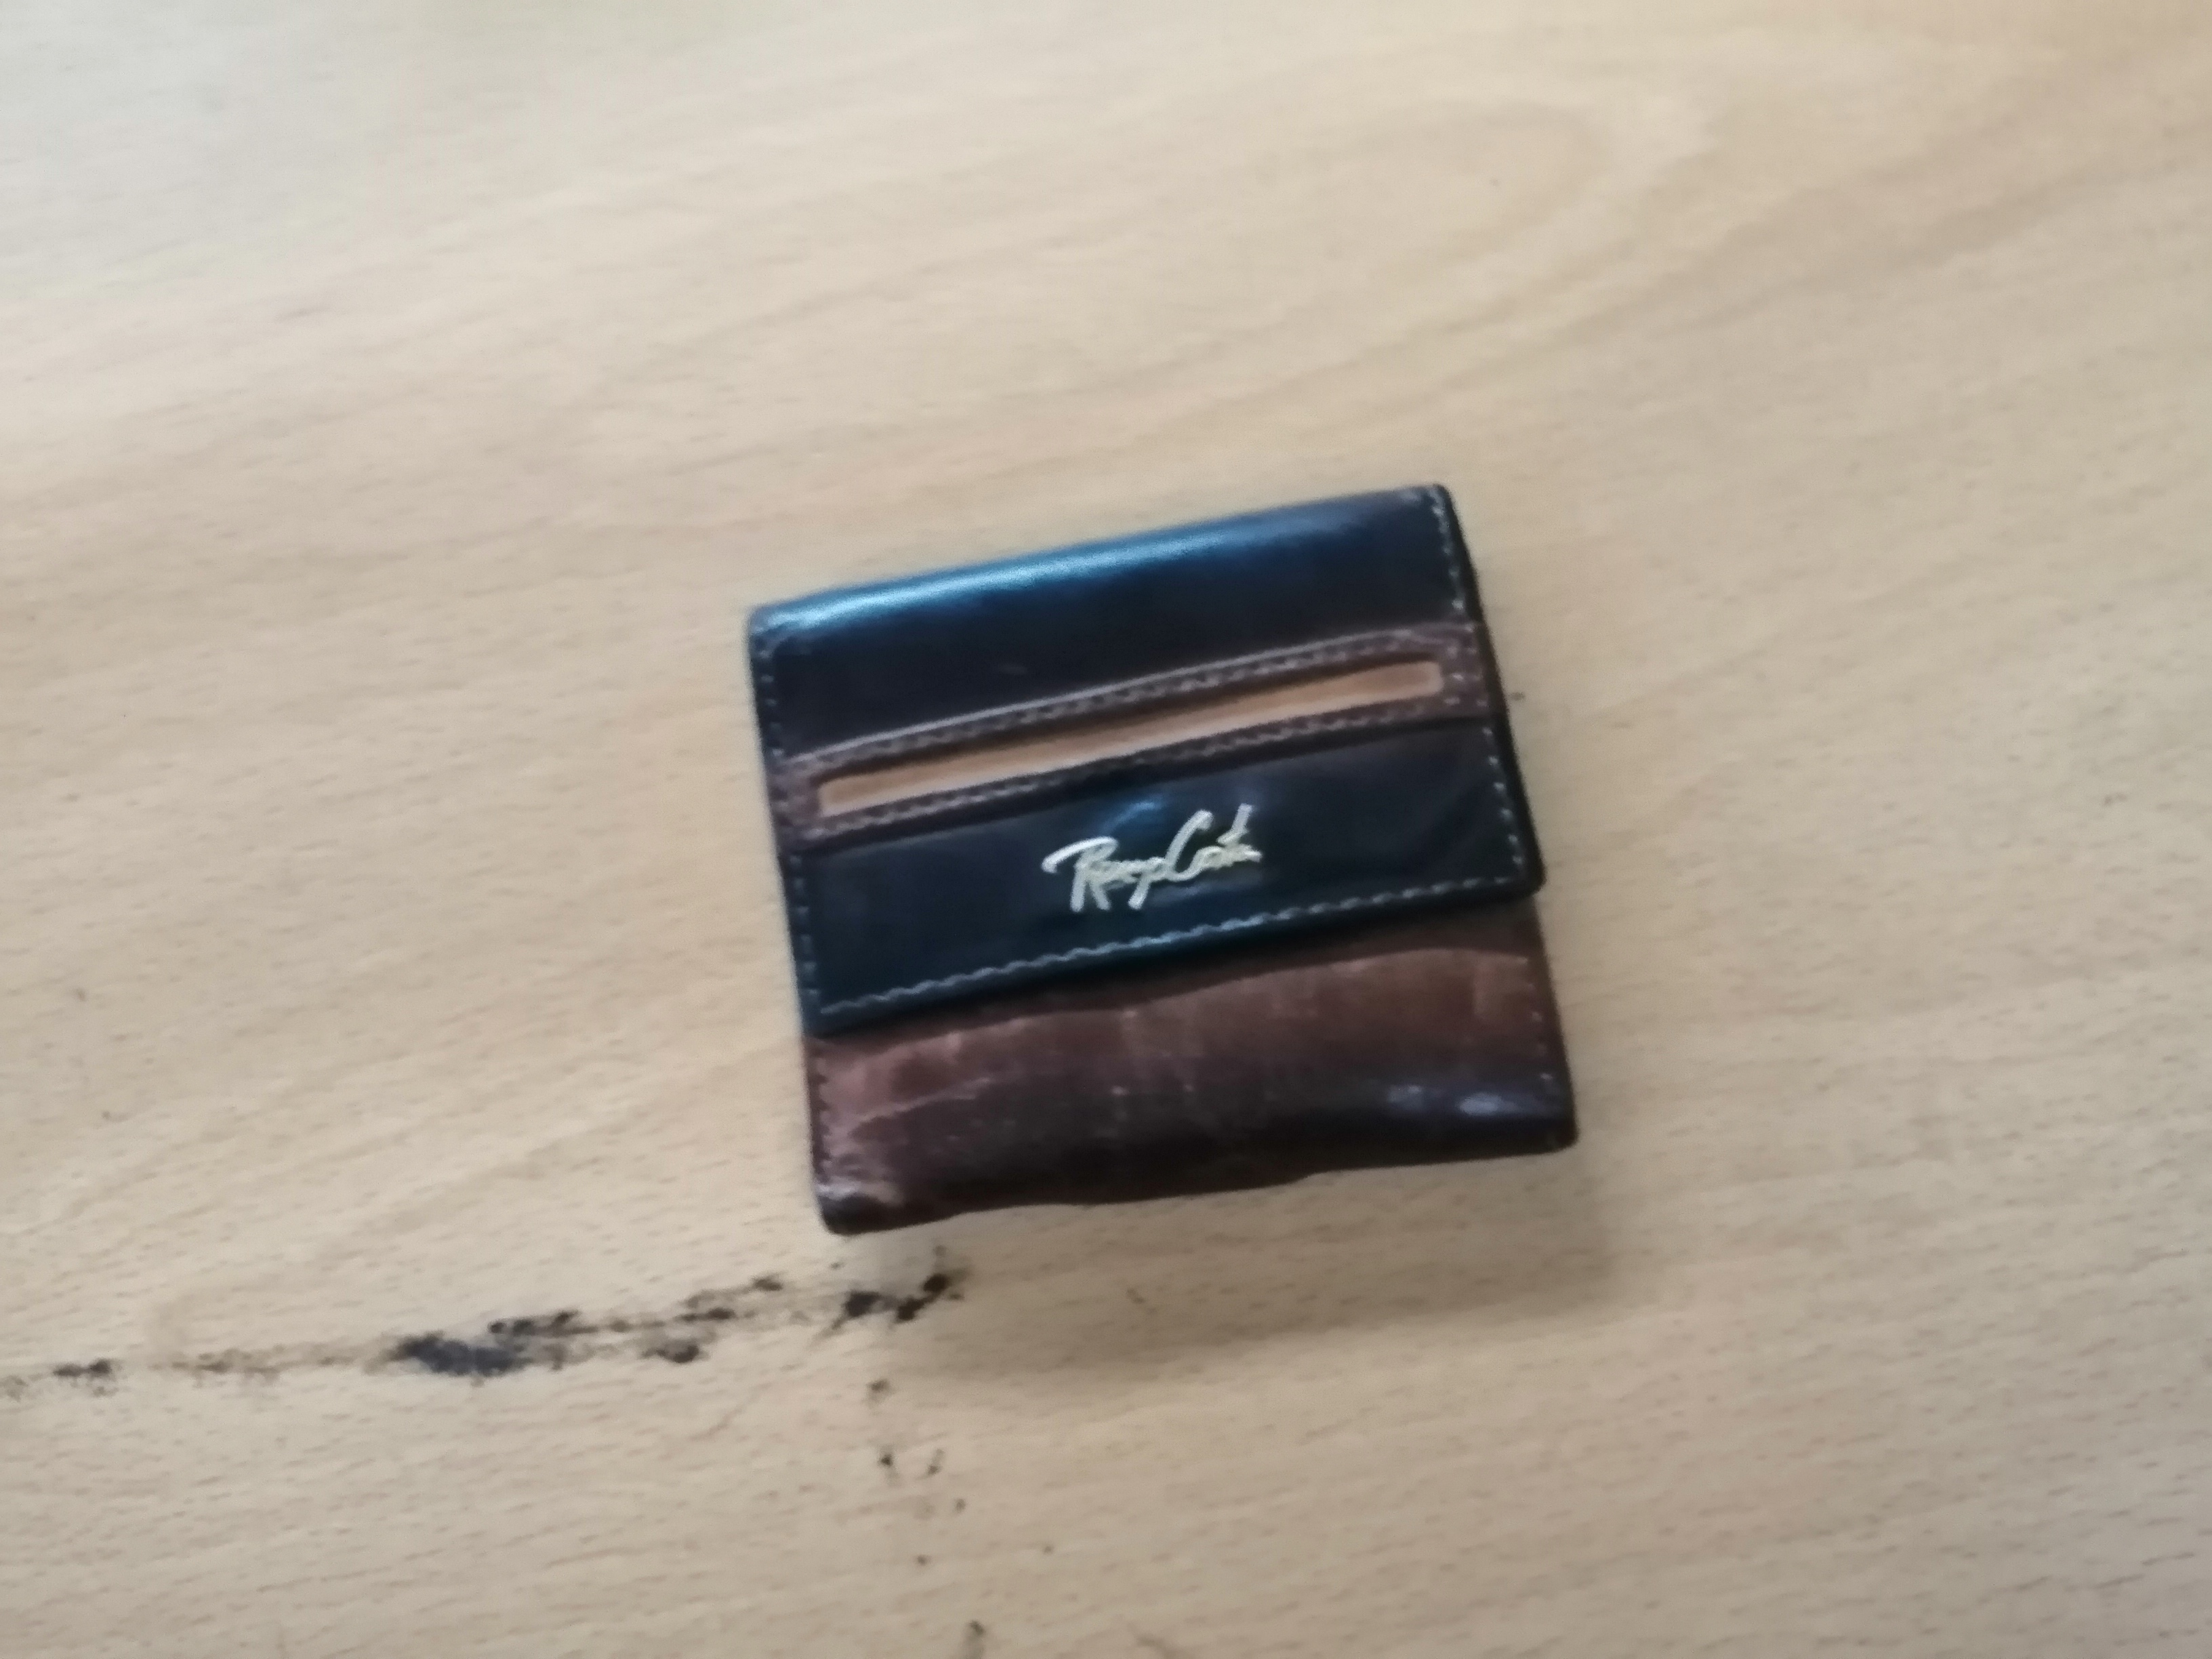monedero: (716, 476, 1639, 1256)
